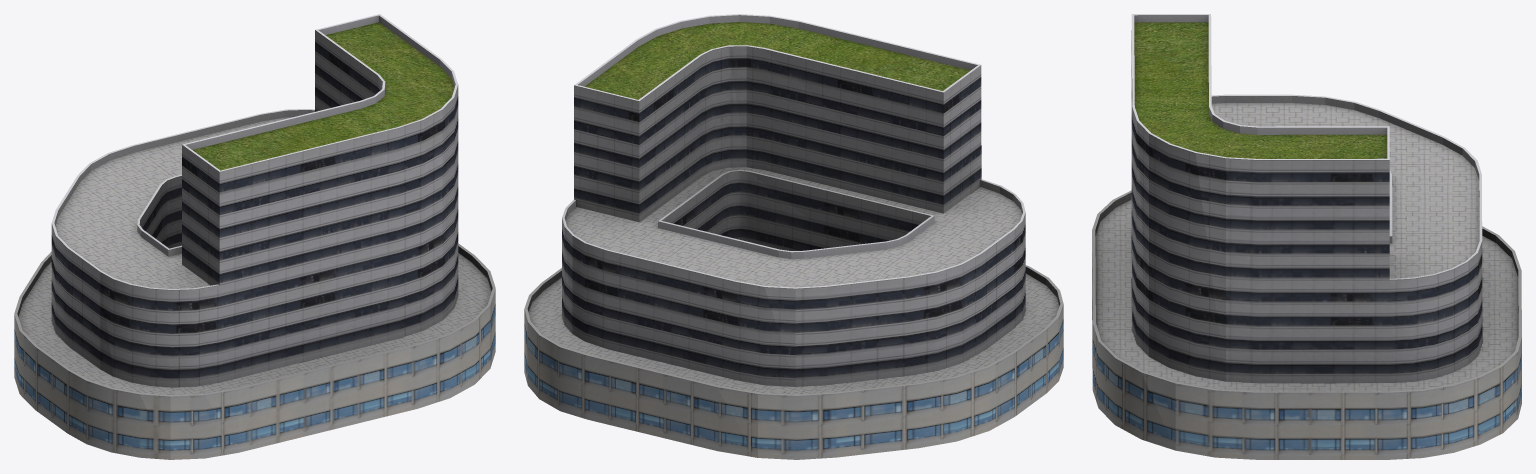
3 views of the same model, side by side, from view 1: azimuth 30°, elevation 25°; view 2: azimuth 150°, elevation 25°; view 3: azimuth 270°, elevation 25° (orthographic). The views are drawn at different scales.
Parts seen in each view (by area): view 1: MainBuilding; view 2: MainBuilding; view 3: MainBuilding.
Part boxes in pixels (left/top/right/bottom): MainBuilding: left=14, top=14, right=495, bottom=459; MainBuilding: left=524, top=14, right=1063, bottom=459; MainBuilding: left=1092, top=14, right=1521, bottom=459.
Size of the model in its own units: 7.83 by 4.72 by 6.5.
Materials: 1 (1 with a texture image).
